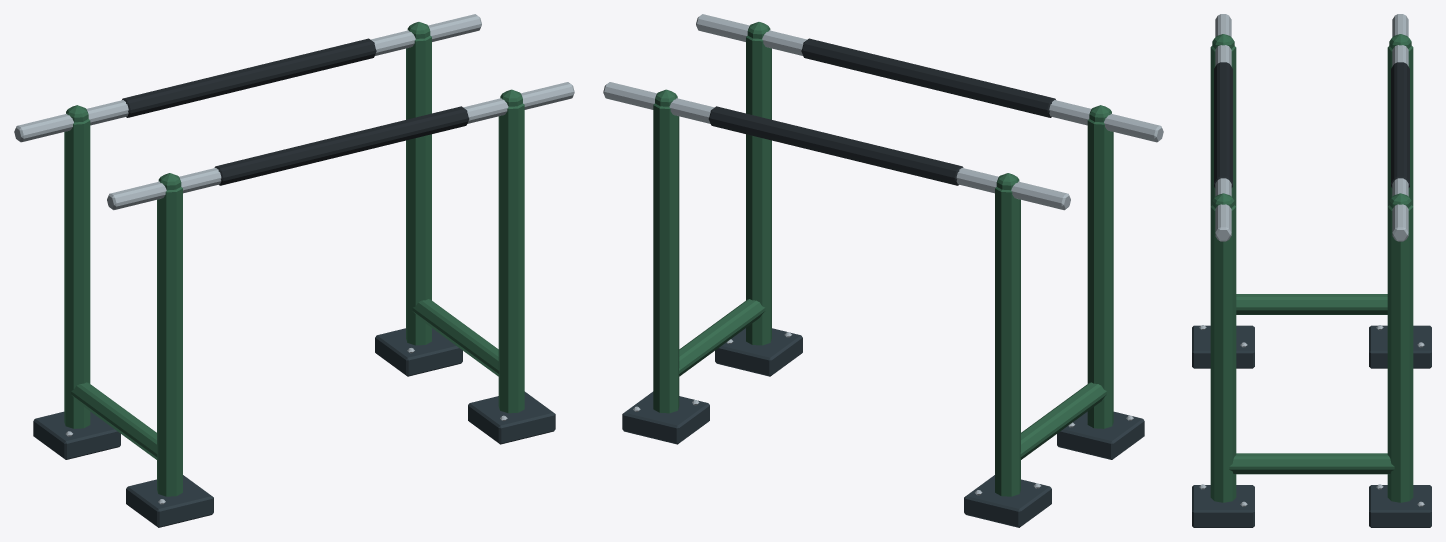
The model's file is b09_parallel_dip_station.glb.
3 views of the same model, side by side, from view 1: azimuth 30°, elevation 25°; view 2: azimuth 150°, elevation 25°; view 3: azimuth 270°, elevation 25° (orthographic). The views are drawn at different scales.
Parts seen in each view (by area): view 1: b09_parallel_dip_station; view 2: b09_parallel_dip_station; view 3: b09_parallel_dip_station.
Part boxes in pixels (x1=…): b09_parallel_dip_station: x1=14, y1=14, x2=574, y2=527; b09_parallel_dip_station: x1=603, y1=14, x2=1163, y2=527; b09_parallel_dip_station: x1=1192, y1=14, x2=1431, y2=527.
Size of the model in its own units: 1.78 by 1.25 by 0.84.
